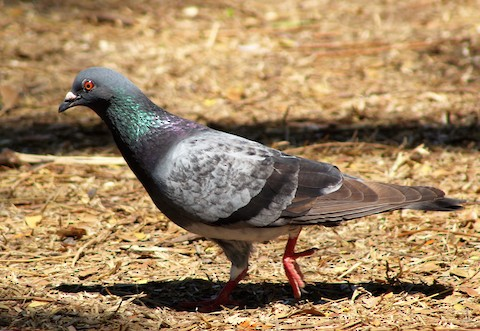pigeon: (55, 62, 465, 315)
